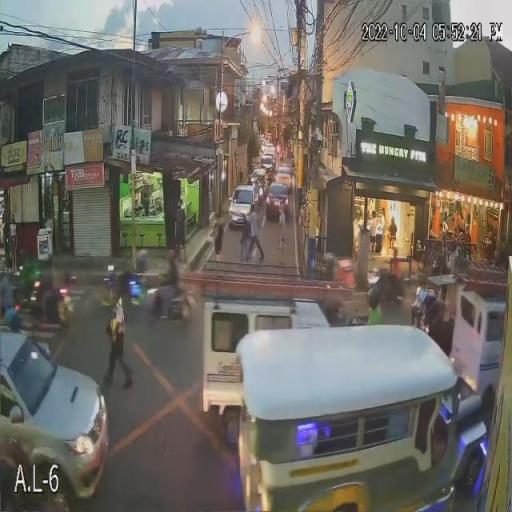helmet: (366, 287, 381, 308), (165, 248, 179, 263)
motorcycle: (145, 284, 198, 322), (343, 307, 363, 325)
rider: (160, 262, 180, 319), (359, 308, 386, 325)
